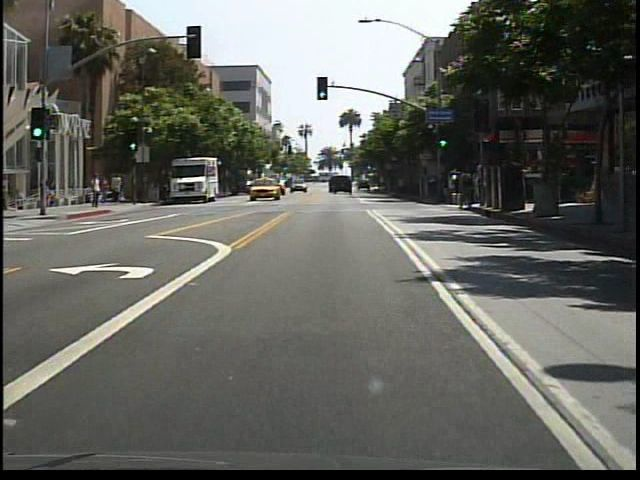person: (110, 171, 126, 205), (91, 172, 104, 210), (40, 181, 56, 210), (101, 175, 114, 204)
